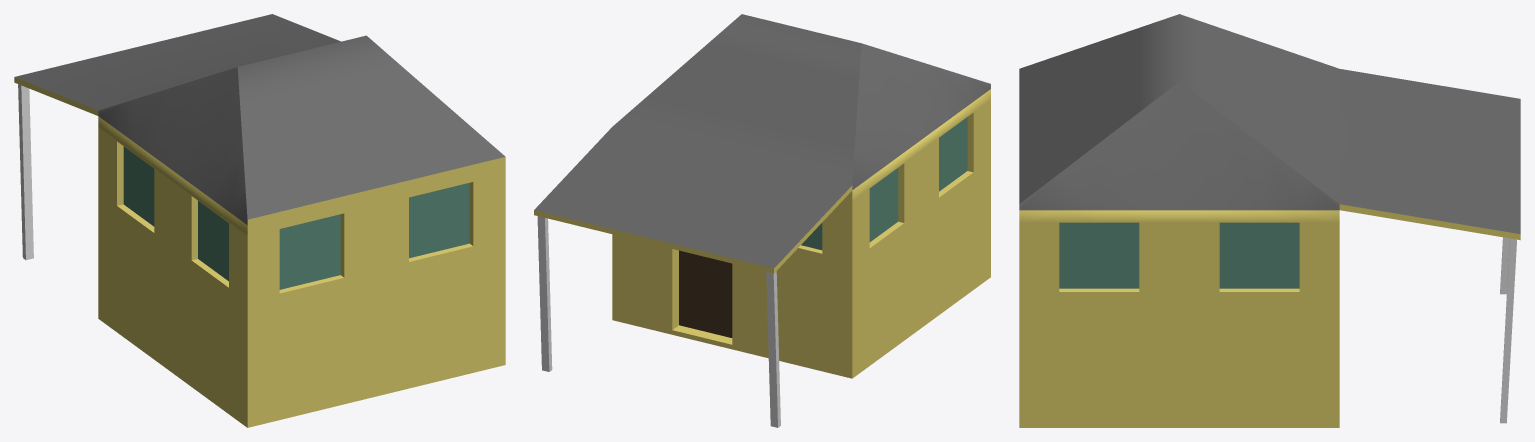
Rendered from House3-4.fbx.
3 views of the same model, side by side, from view 1: azimuth 30°, elevation 25°; view 2: azimuth 150°, elevation 25°; view 3: azimuth 270°, elevation 25° (orthographic). The views are drawn at different scales.
Parts seen in each view (by area): view 1: pCube4.002; view 2: pCube4.002; view 3: pCube4.002.
Boxes of the visible parts, left/top/right/bottom form: pCube4.002: left=14, top=14, right=505, bottom=427; pCube4.002: left=534, top=14, right=990, bottom=427; pCube4.002: left=1019, top=14, right=1520, bottom=427.
Bounding box in the file's own units: 8 × 8.61 × 12.52.
